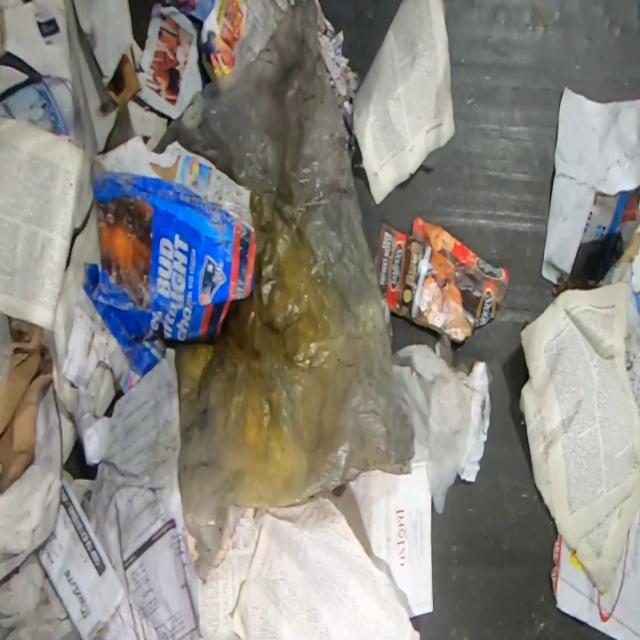cardboard: (61, 136, 258, 394), (374, 217, 510, 346), (562, 183, 640, 326)
soft_plastic: (151, 0, 415, 585), (0, 314, 12, 390)
